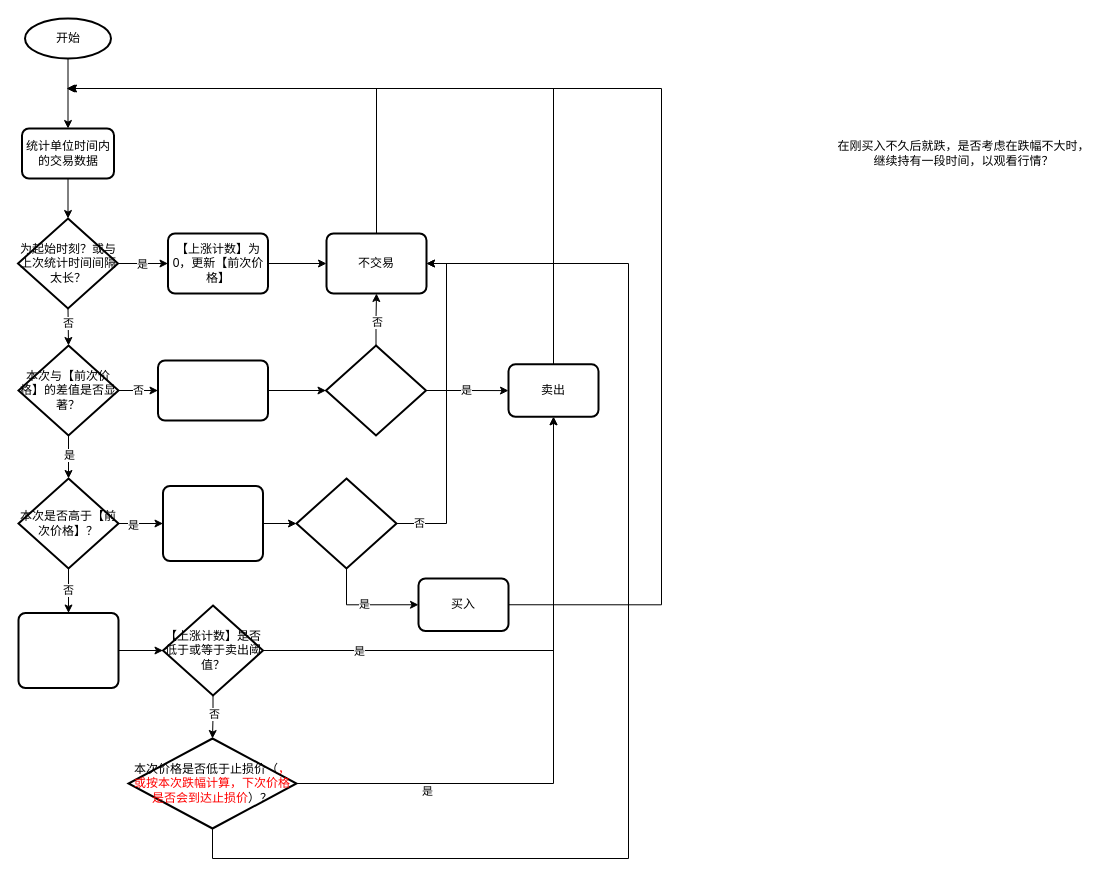
This 1116x884 diagram has some shape labels left out. The box of each missing label's shape, as (x1, y1, x2, y2) in pixels:
【上涨计数】、【前次价格】均不变: (156, 359, 268, 421)
【上涨计数】减1，更新【前次价格】: (17, 612, 119, 688)
【上涨计数】加1，更新【前次价格】: (162, 484, 264, 562)
【上涨计数】是否大于或等于买入阈值？: (295, 477, 397, 569)
本次为下跌，且当前价格低于或等于止损价？: (324, 344, 426, 436)
